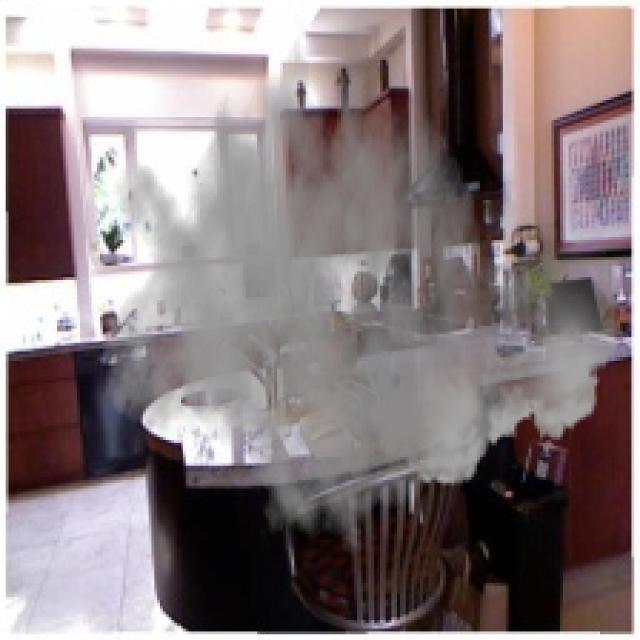Smoke: (100, 14, 626, 554)
